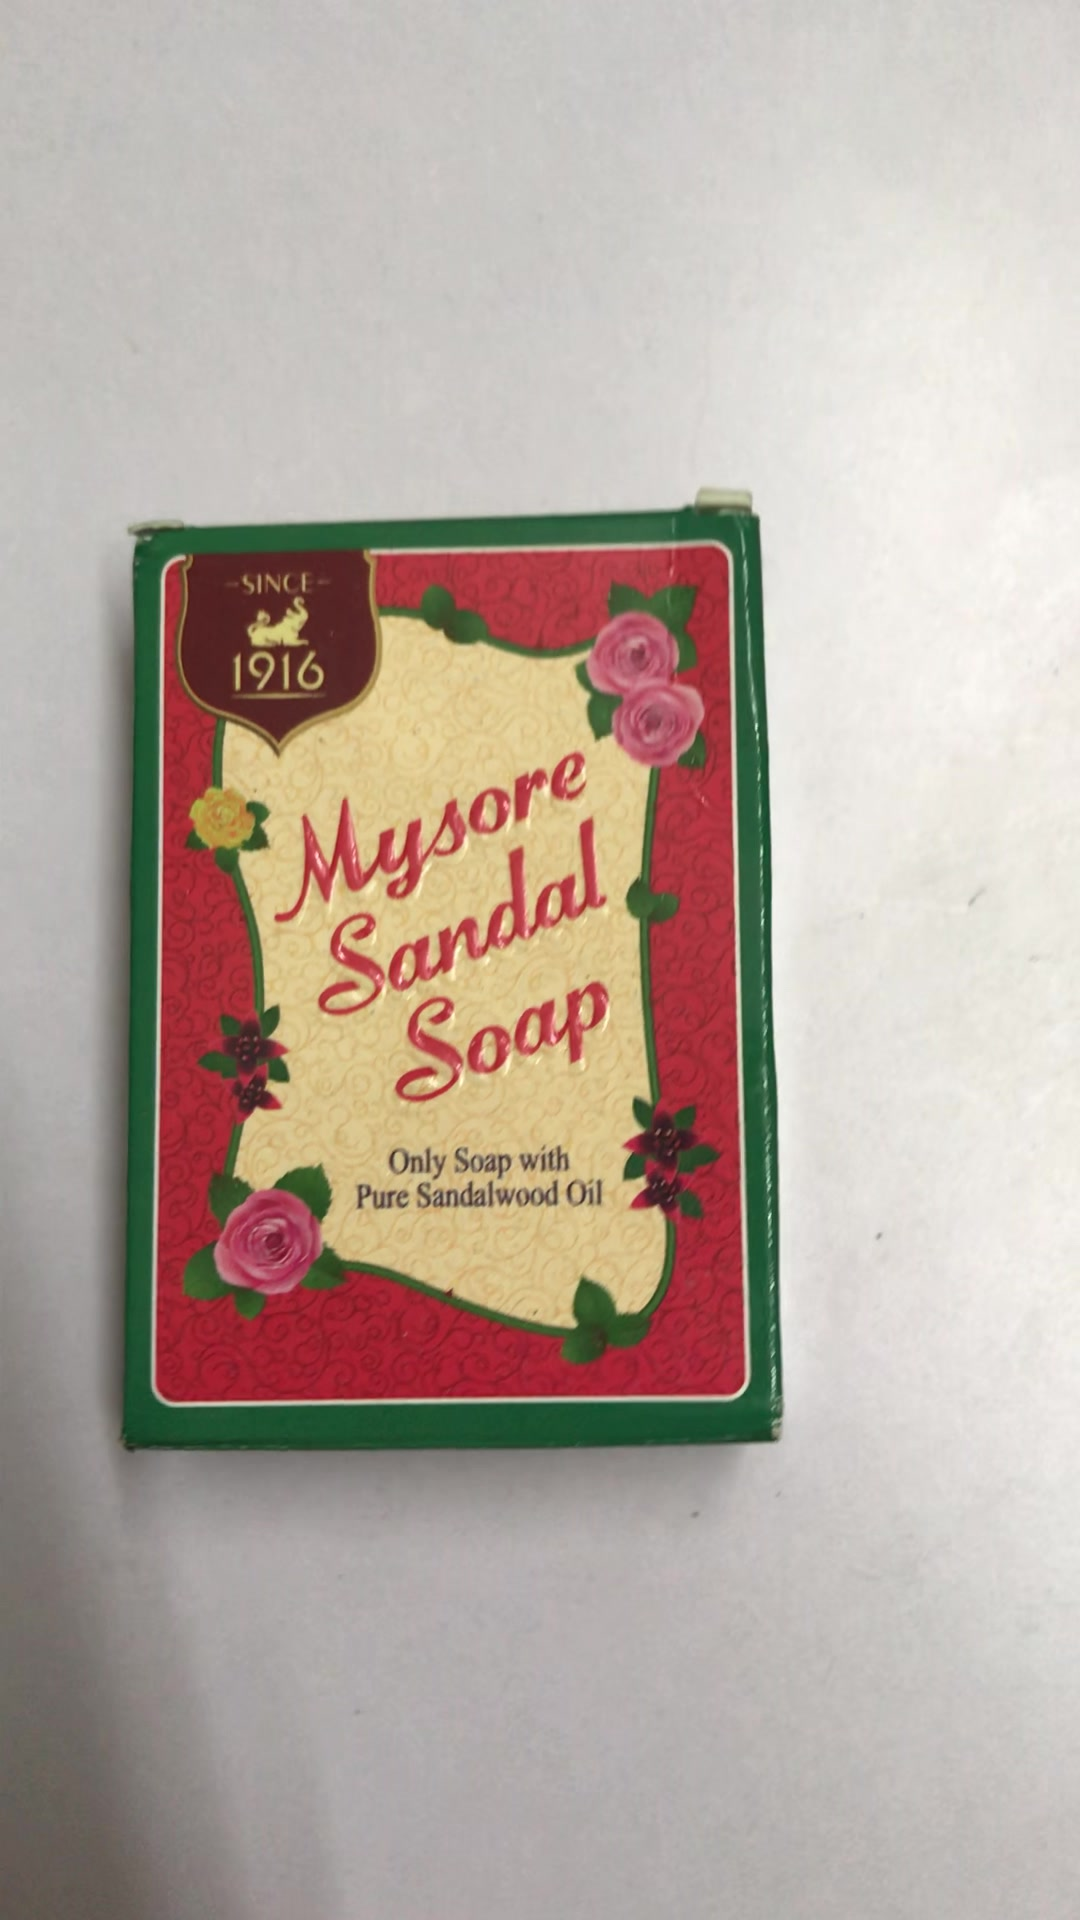mysore sandal soap: (120, 516, 775, 1444)
